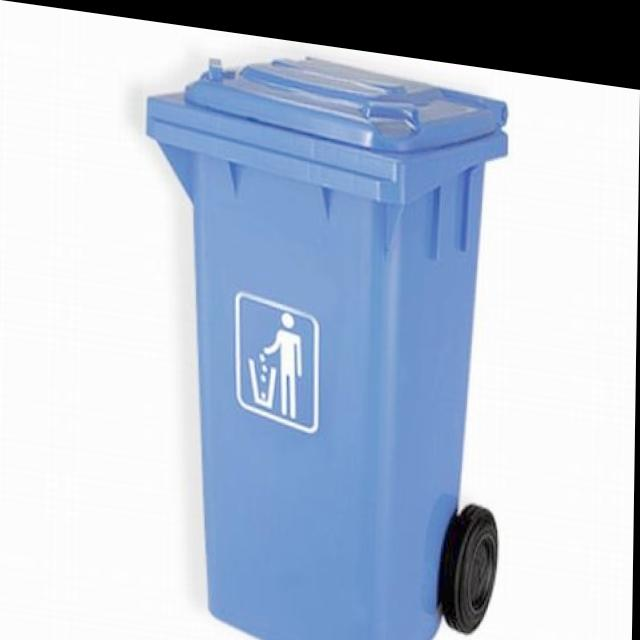garbage_bin: (137, 28, 509, 640)
